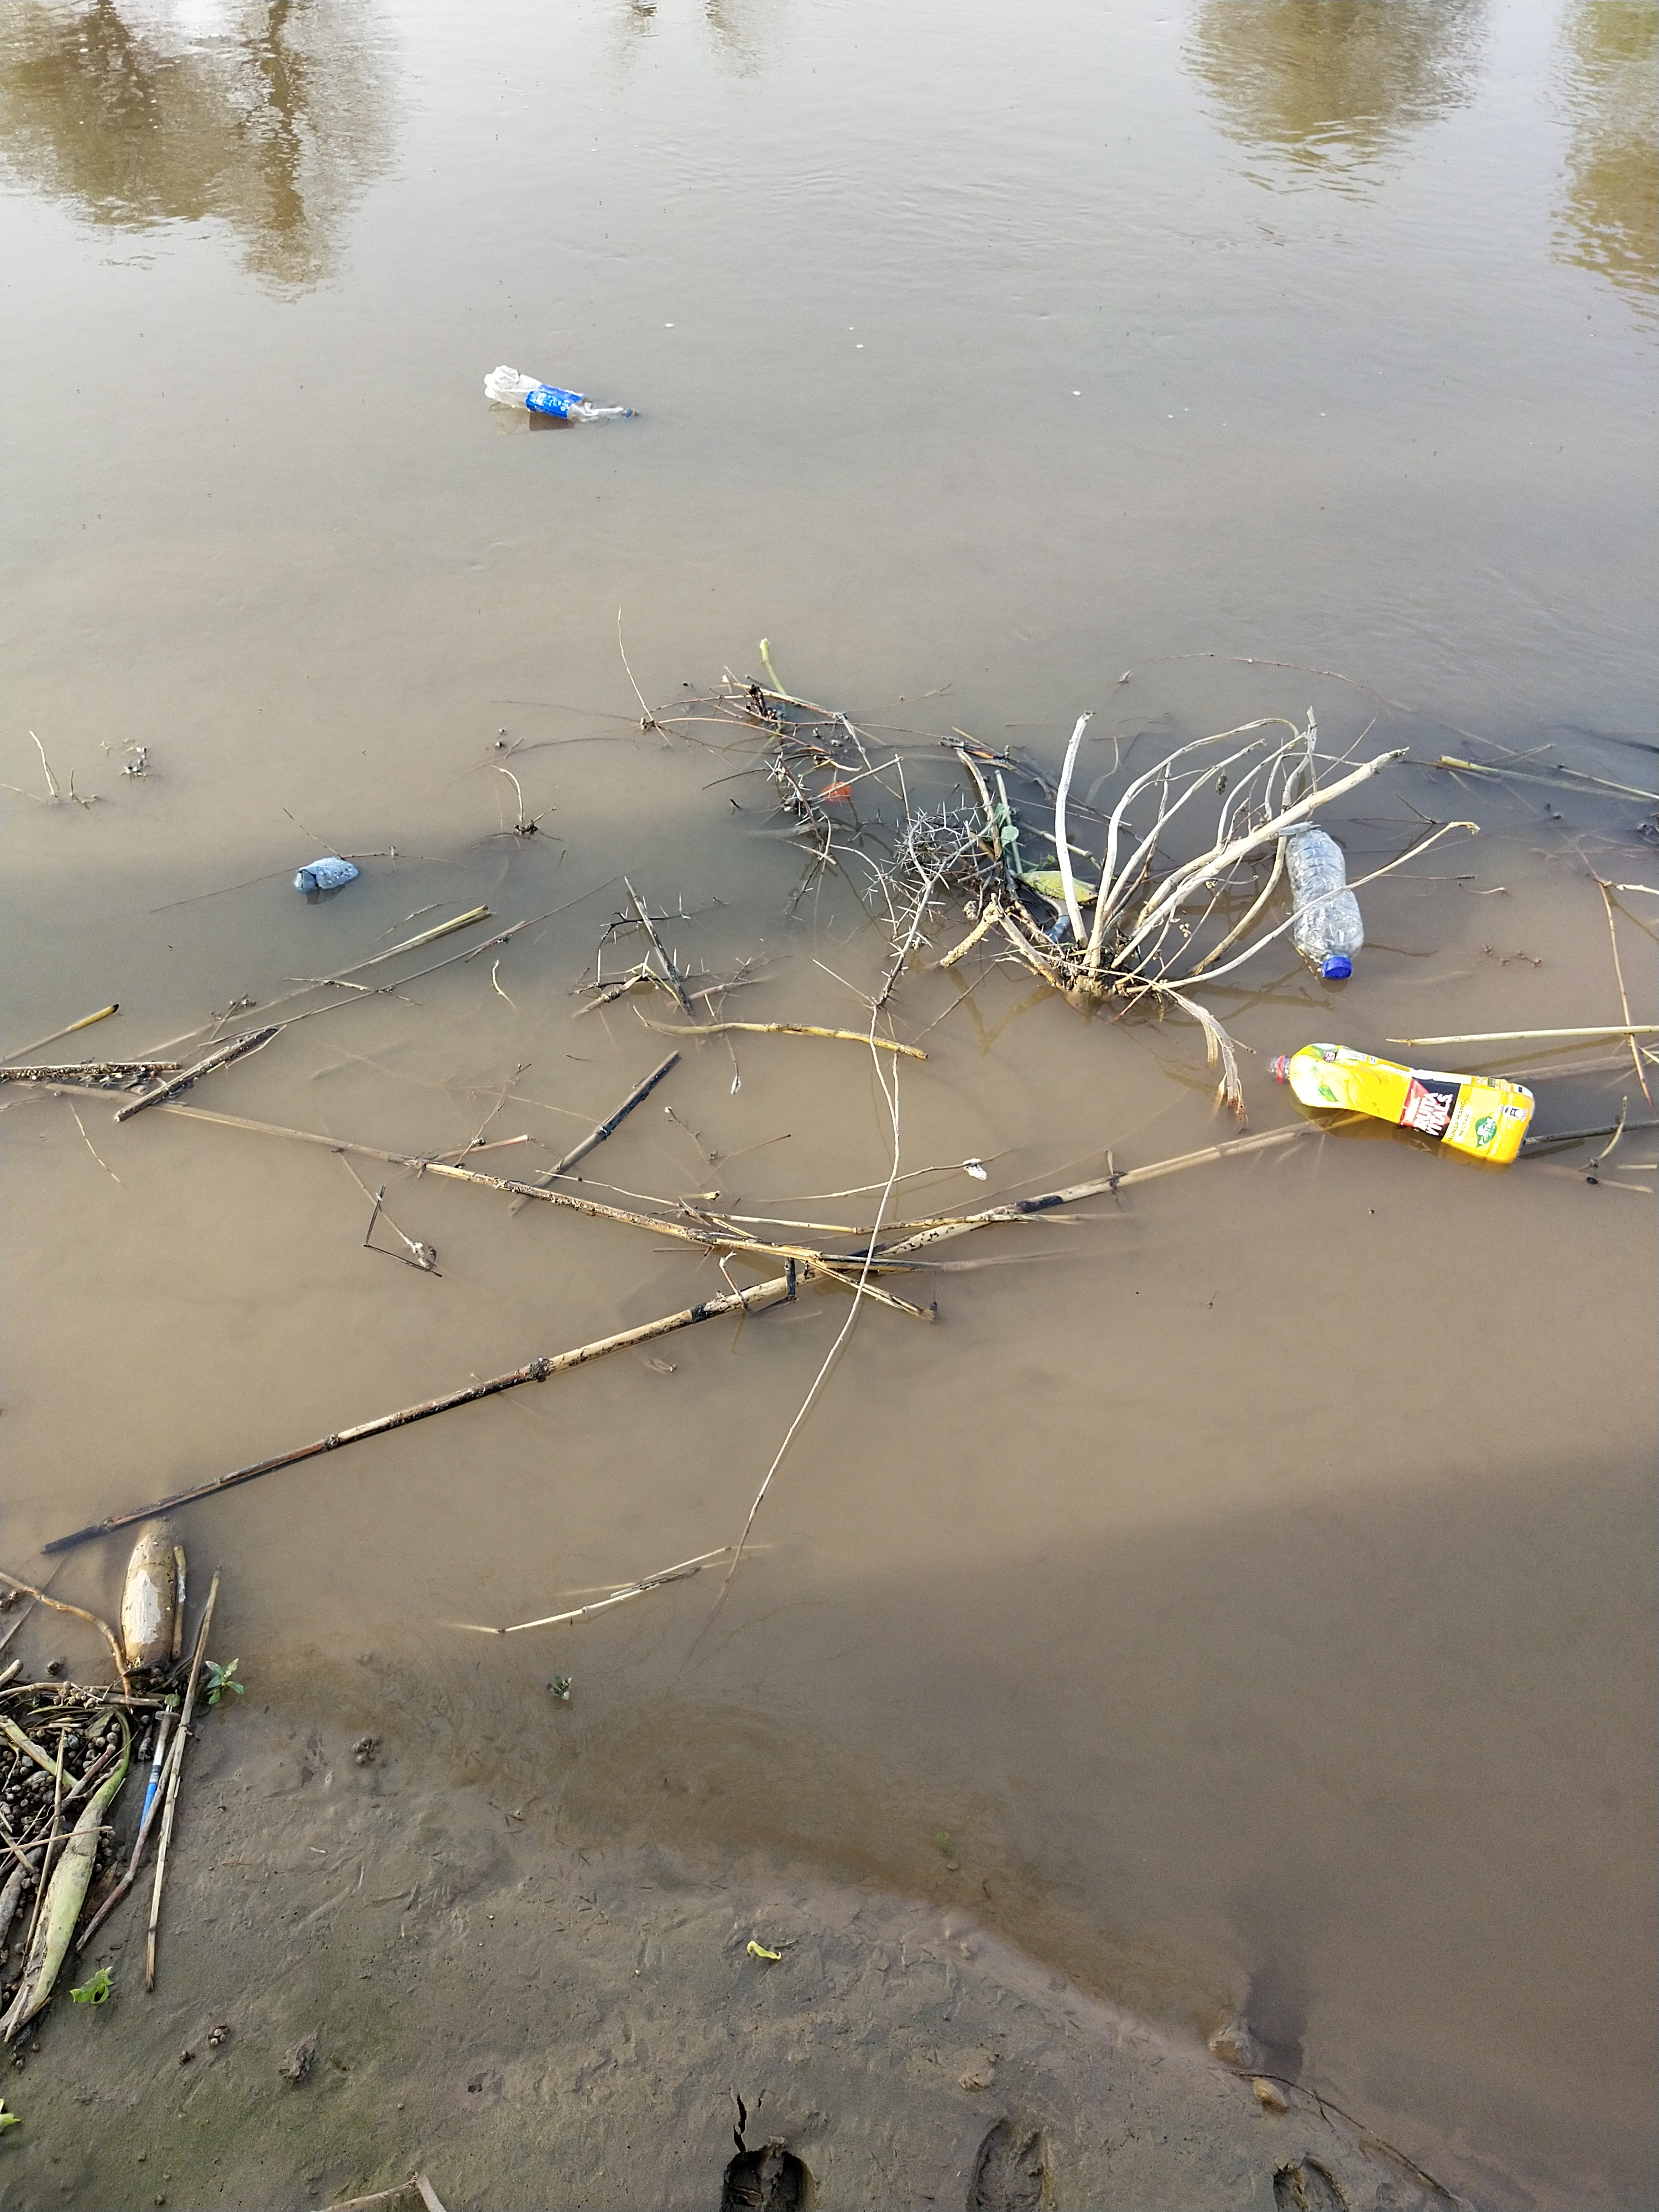Plastic Bottle: (1269, 1043, 1535, 1163), (1286, 829, 1364, 981), (483, 364, 636, 423), (295, 857, 359, 892)
